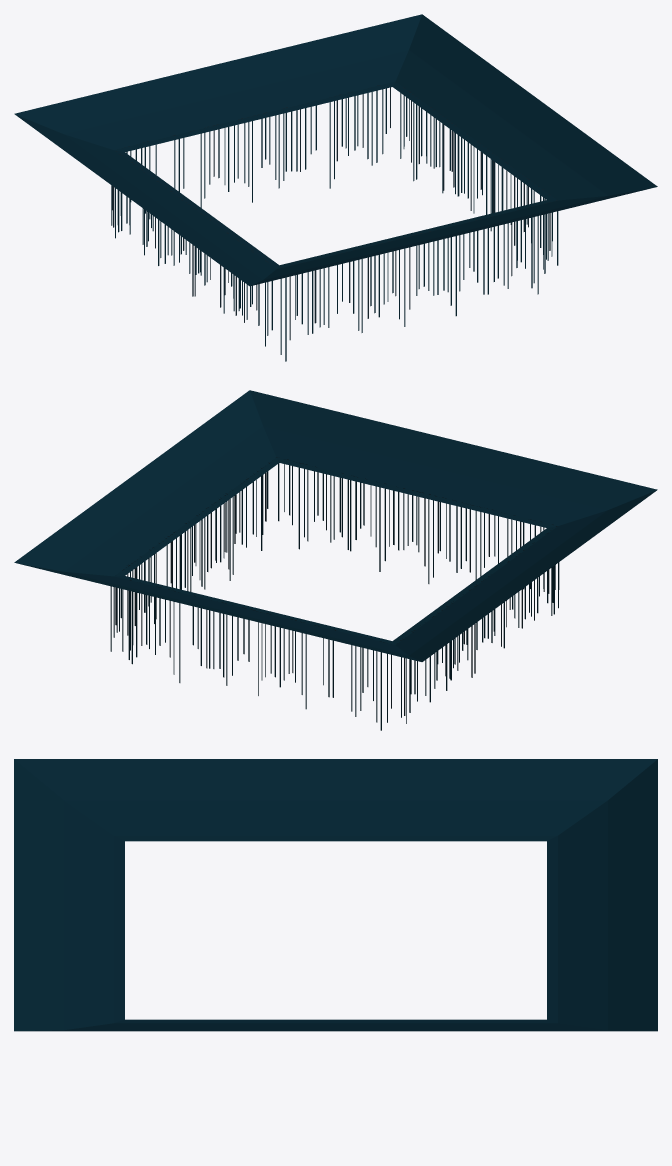
File: room_edge_8.glb
The picture shows the model from 3 angles, top to bottom: view 1: azimuth 30°, elevation 25°; view 2: azimuth 150°, elevation 25°; view 3: azimuth 270°, elevation 25°; orthographic projection. The views are drawn at different scales.
Visible parts, largest first — view 1: edge_mist, edge_streaks_hang; view 2: edge_mist, edge_streaks_hang; view 3: edge_mist.
Boxes of the visible parts, x1=… form: edge_mist: x1=14, y1=14, x2=657, y2=286; edge_streaks_hang: x1=111, y1=87, x2=558, y2=361; edge_mist: x1=14, y1=390, x2=657, y2=661; edge_streaks_hang: x1=110, y1=463, x2=559, y2=730; edge_mist: x1=14, y1=759, x2=657, y2=1031.
Bounding box in the file's own units: 11.6 × 3.19 × 11.6.
